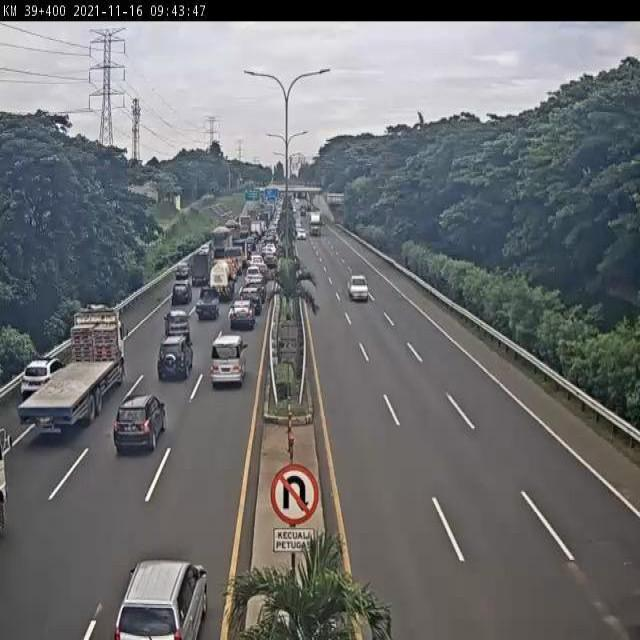car: (114, 560, 207, 640), (114, 394, 164, 454), (208, 337, 246, 392), (156, 336, 194, 383), (22, 358, 64, 393), (165, 310, 193, 346), (195, 288, 219, 321), (230, 300, 254, 333), (347, 273, 369, 303), (240, 288, 262, 315), (169, 280, 191, 305), (246, 280, 266, 301), (246, 265, 264, 284), (174, 262, 190, 278), (248, 254, 264, 266), (297, 227, 304, 236)
small truck: (187, 248, 214, 287), (225, 246, 244, 274)
truck-l-: (20, 304, 124, 425), (308, 210, 320, 233)
truck-m-: (206, 261, 234, 307), (209, 228, 231, 264)
